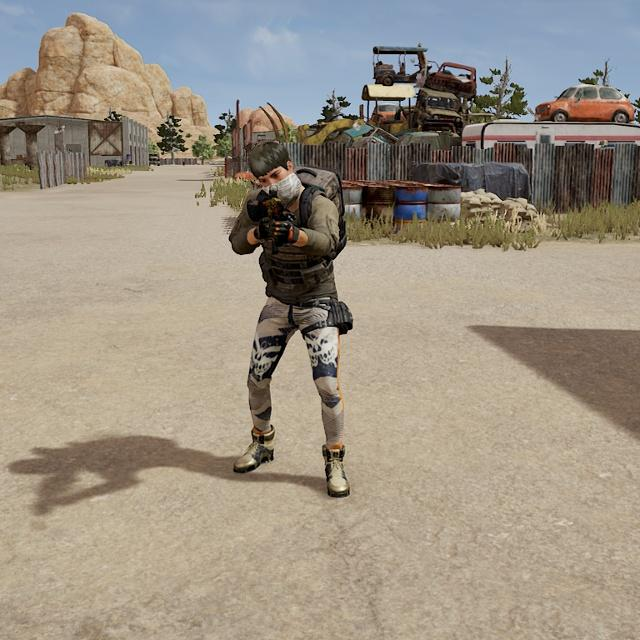head: (244, 135, 301, 204)
people: (222, 132, 371, 502)
